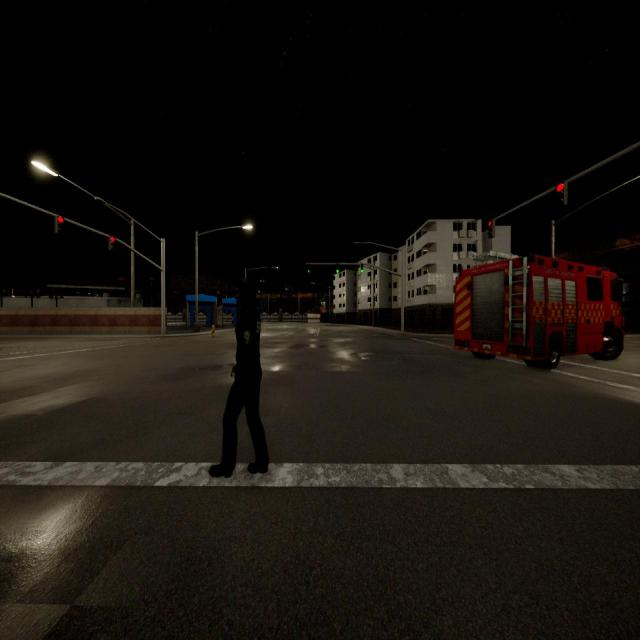Pedestrian: (208, 283, 268, 477), (212, 323, 215, 338)
Vehicle: (454, 257, 624, 368)
traffic_light: (557, 183, 567, 205), (55, 216, 63, 232), (488, 220, 495, 238), (109, 237, 115, 250), (336, 265, 339, 273), (361, 263, 363, 273), (308, 265, 309, 273)
